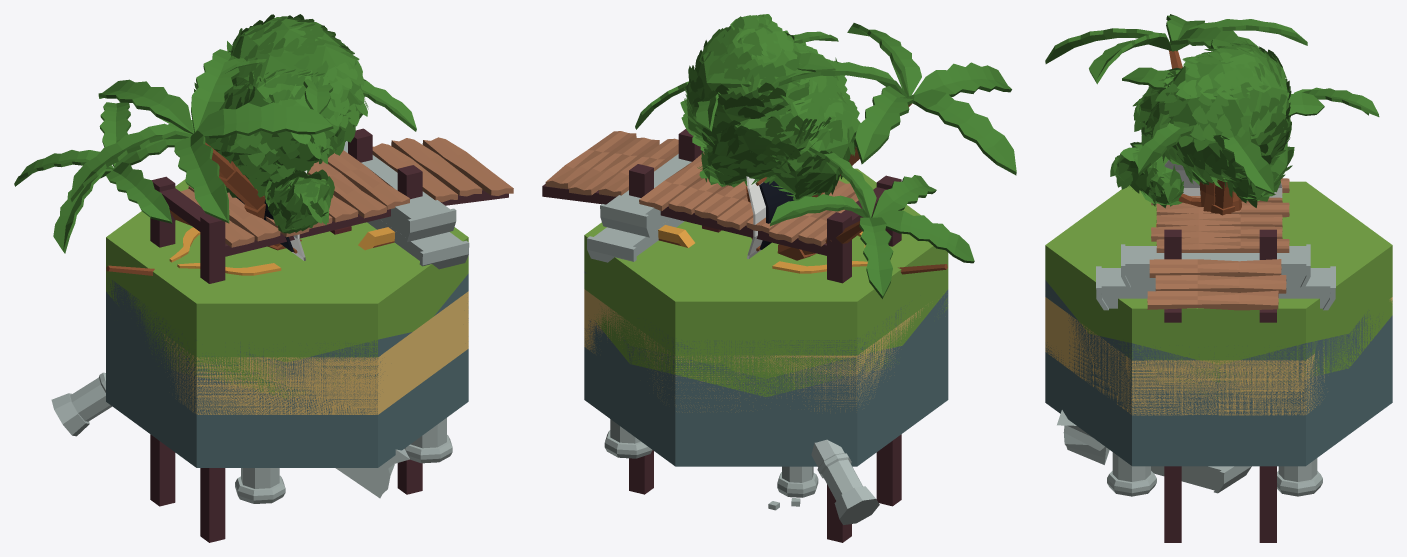
The model's file is rock3.glb.
3 renders of one model, left to right at view 1: azimuth 30°, elevation 25°; view 2: azimuth 150°, elevation 25°; view 3: azimuth 270°, elevation 25°, orthographic. The views are drawn at different scales.
Visible parts, largest first — view 1: земля2, причал, песок, пальма1, cскала, земля, руимны, земля.3, пальма3, foliage.001, жоски кораб, foliage.002 (+1 smaller); view 2: земля2, земля.3, земля, причал, пальма1, руимны, пальма3, cскала, foliage.001, песок, foliage.002, жоски кораб (+2 smaller); view 3: земля2, причал, песок, земля, руимны, foliage.001, пальма1, пальма2, земля.3, foliage.002, пальма3, КОРАБЛ.
Boxes of the visible parts, left/top/right/bottom form: земля2: left=106, top=179, right=468, bottom=467; причал: left=150, top=128, right=513, bottom=542; песок: left=158, top=291, right=468, bottom=414; пальма1: left=70, top=49, right=333, bottom=250; cскала: left=106, top=278, right=377, bottom=434; земля: left=106, top=286, right=377, bottom=433; руимны: left=51, top=141, right=469, bottom=503; земля.3: left=106, top=255, right=377, bottom=449; пальма3: left=14, top=102, right=194, bottom=253; foliage.001: left=209, top=17, right=363, bottom=188; жоски кораб: left=106, top=197, right=395, bottom=275; foliage.002: left=222, top=74, right=329, bottom=219; земля2: left=584, top=168, right=948, bottom=466; земля.3: left=584, top=253, right=948, bottom=448; земля: left=584, top=273, right=948, bottom=431; причал: left=542, top=129, right=901, bottom=542; пальма1: left=778, top=23, right=1016, bottom=197; руимны: left=587, top=154, right=879, bottom=524; пальма3: left=770, top=147, right=974, bottom=298; cскала: left=584, top=305, right=934, bottom=432; foliage.001: left=686, top=23, right=855, bottom=196; песок: left=584, top=289, right=922, bottom=412; foliage.002: left=702, top=76, right=838, bottom=184; жоски кораб: left=658, top=177, right=947, bottom=274; земля2: left=1045, top=181, right=1392, bottom=466; причал: left=1147, top=178, right=1289, bottom=542; песок: left=1045, top=297, right=1392, bottom=415; земля: left=1045, top=281, right=1392, bottom=433; руимны: left=1057, top=244, right=1335, bottom=496; foliage.001: left=1153, top=43, right=1287, bottom=180; пальма1: left=1045, top=14, right=1307, bottom=84; пальма2: left=1122, top=39, right=1324, bottom=215; земля.3: left=1111, top=263, right=1392, bottom=425; foliage.002: left=1117, top=87, right=1287, bottom=203; пальма3: left=1293, top=87, right=1379, bottom=116; КОРАБЛ: left=1164, top=160, right=1282, bottom=197.
Bounding box in the file's own units: 7.5 × 7.94 × 5.53.
Materials: 3 (3 with a texture image).
